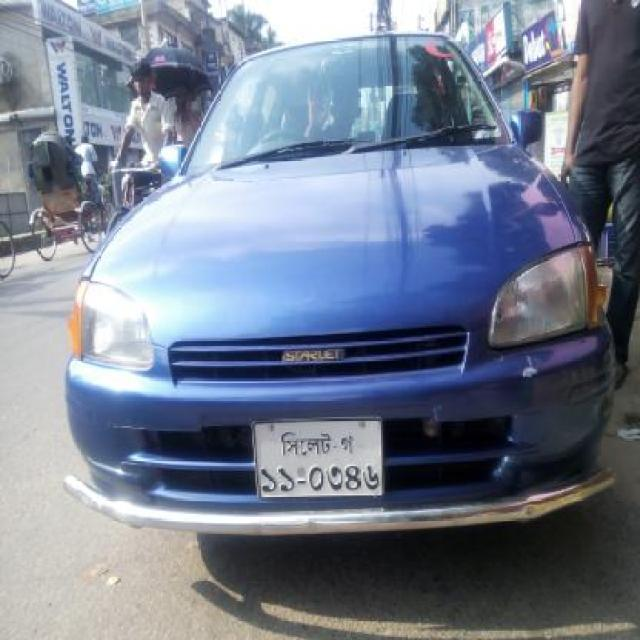numberplate: (250, 416, 384, 499)
